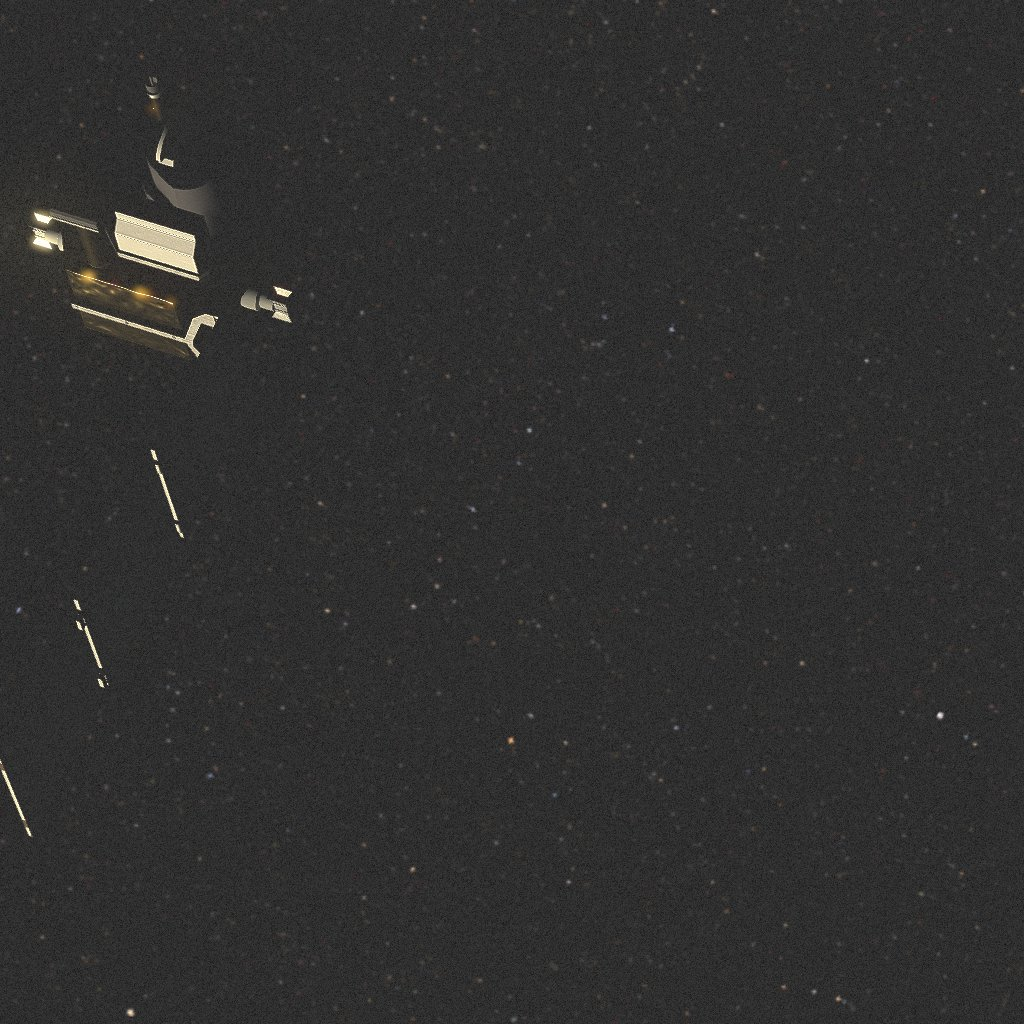earth_observation_sat_1: (0, 75, 298, 837)
